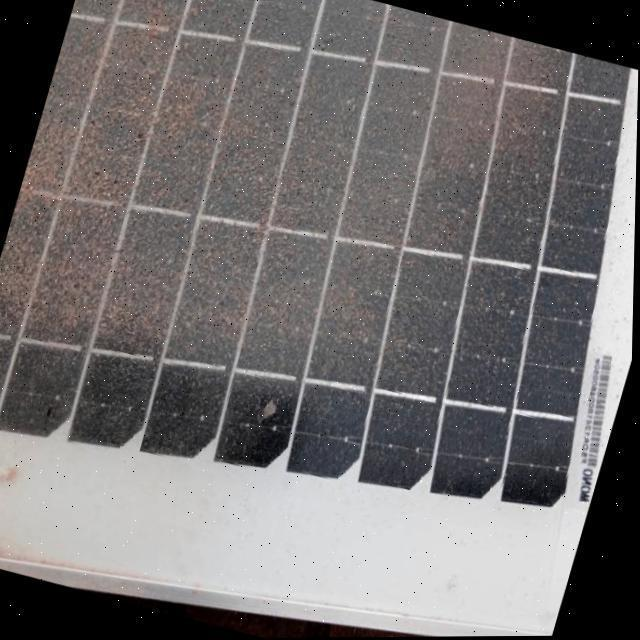Surface Contaminant: (69, 0, 628, 551)
